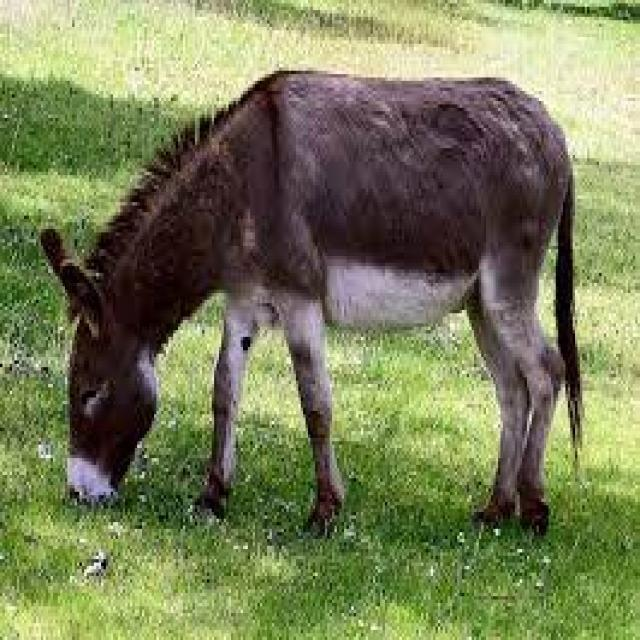Donkey: (2, 36, 640, 586)
